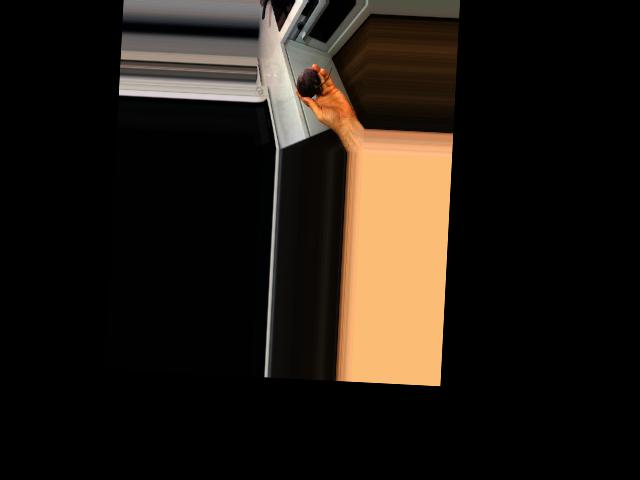beet: (296, 65, 332, 98)
